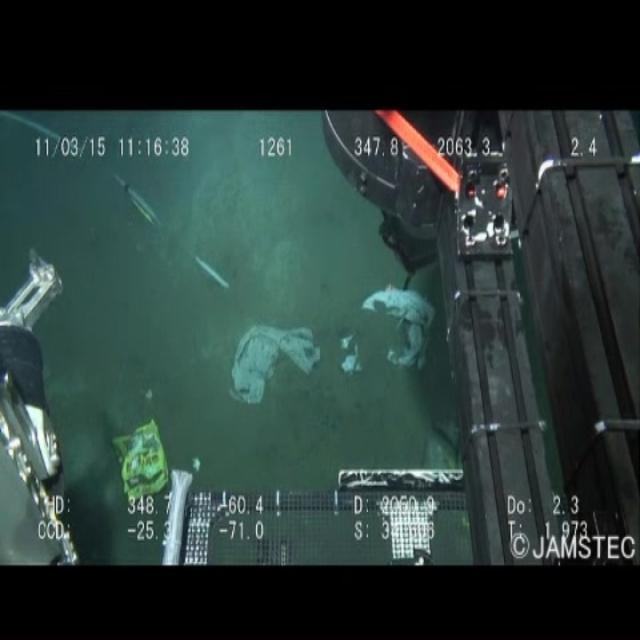Litter: (100, 422, 166, 501), (328, 328, 362, 376)
Plastic: (225, 325, 322, 413), (365, 286, 438, 383)
